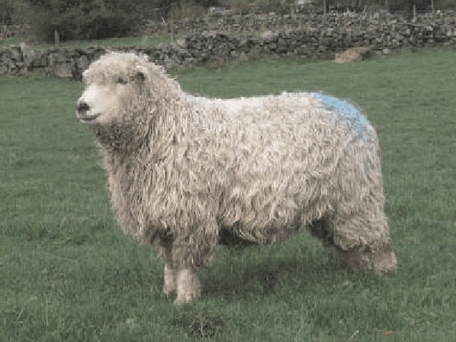koyun: (75, 52, 398, 305)
